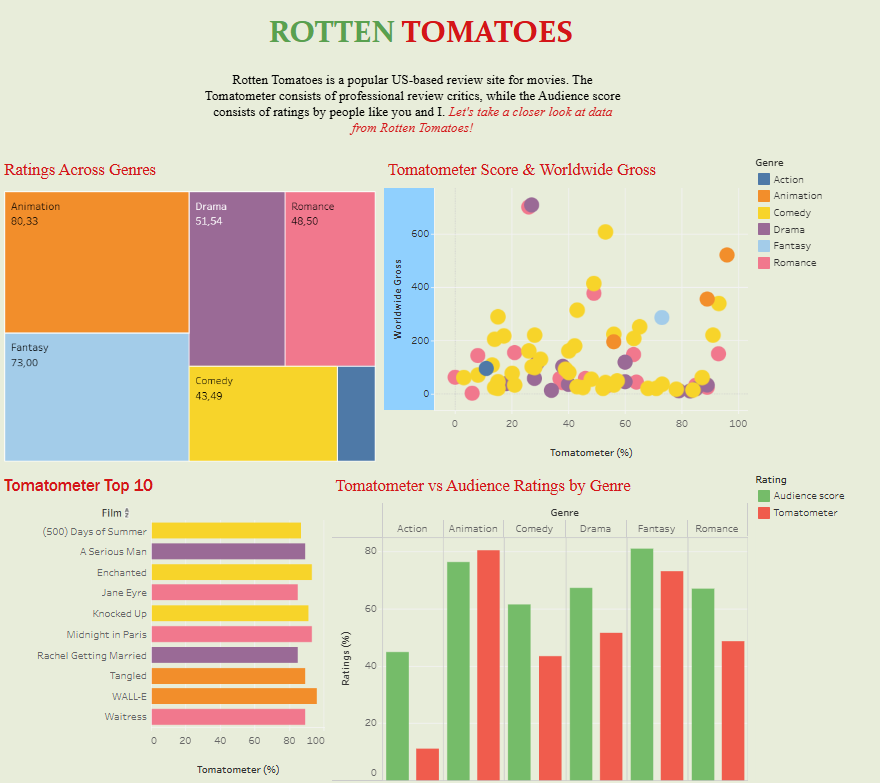

This screenshot's page, from the dashboard's own definition file:
{"tool":"tableau","page":{"name":"Dashboard 1","canvas":[1000,1000],"units":"permille","ordinal":0},"visuals":[{"type":"blank","box":[4.3,8.3,991.4,192.7]},{"type":"text","box":[234.6,77.1,466.7,128.1]},{"type":"worksheet","title":"ratings across genres","mark":"Automatic","box":[4.3,201,460.2,395.3]},{"type":"worksheet","title":"tomatometer score & worldwide gross","mark":"Circle","rows":["Worldwide Gross"],"cols":["Rotten Tomatoes %"],"box":[464.5,201,444.7,395.3]},{"type":"legend","title":"tomatometer score & worldwide gross","param":"[federated.0dfl3sz1l670qj1gd15210jpjryg].[none:Genre:nk]","box":[909.2,201,86.5,395.8]},{"type":"worksheet","title":"tomatometer top 10","mark":"Automatic","rows":["Film"],"cols":["Rotten Tomatoes %"],"box":[4.3,596.4,396.5,395.3]},{"type":"worksheet","title":"Tomatometer vs Audience Ratings by Genre","mark":"Automatic","cols":["Genre"],"box":[400.8,596.4,508.4,395.3]},{"type":"legend","title":"Tomatometer vs Audience Ratings by Genre","param":"[federated.0dfl3sz1l670qj1gd15210jpjryg].[:Measure Names]","box":[909.2,596.9,86.5,394.8]}]}

Visuals, with their boxes on the dashboard's canvas, which has no fixed pixel size, in thousandths of its width and height (x1, y1, x2, y2). These are canvas units, not pixel positions in the 880x783 screenshot, which may show the page scaled, cropped or inside an application window:
blank: 4/8/996/201
text: 235/77/701/205
"ratings across genres" worksheet: 4/201/464/596
"tomatometer score & worldwide gross" worksheet (Circle marks): 464/201/909/596
"tomatometer score & worldwide gross" legend: 909/201/996/597
"tomatometer top 10" worksheet: 4/596/401/992
"Tomatometer vs Audience Ratings by Genre" worksheet: 401/596/909/992
"Tomatometer vs Audience Ratings by Genre" legend: 909/597/996/992
